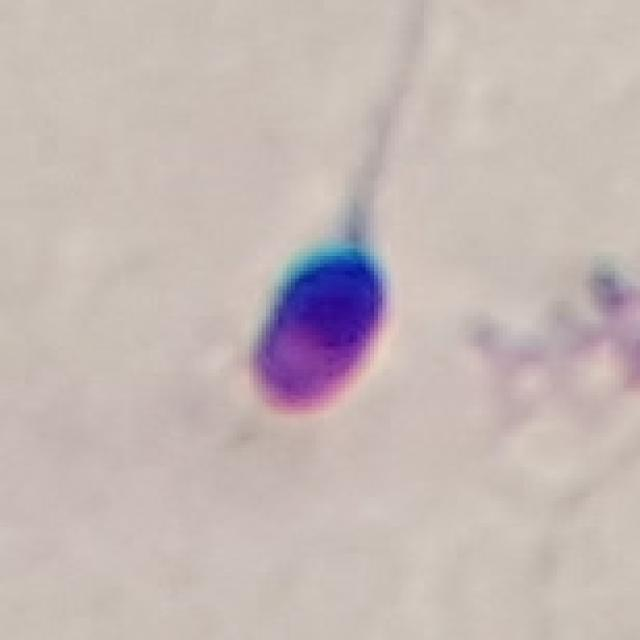normal sperm: (230, 29, 424, 426)
